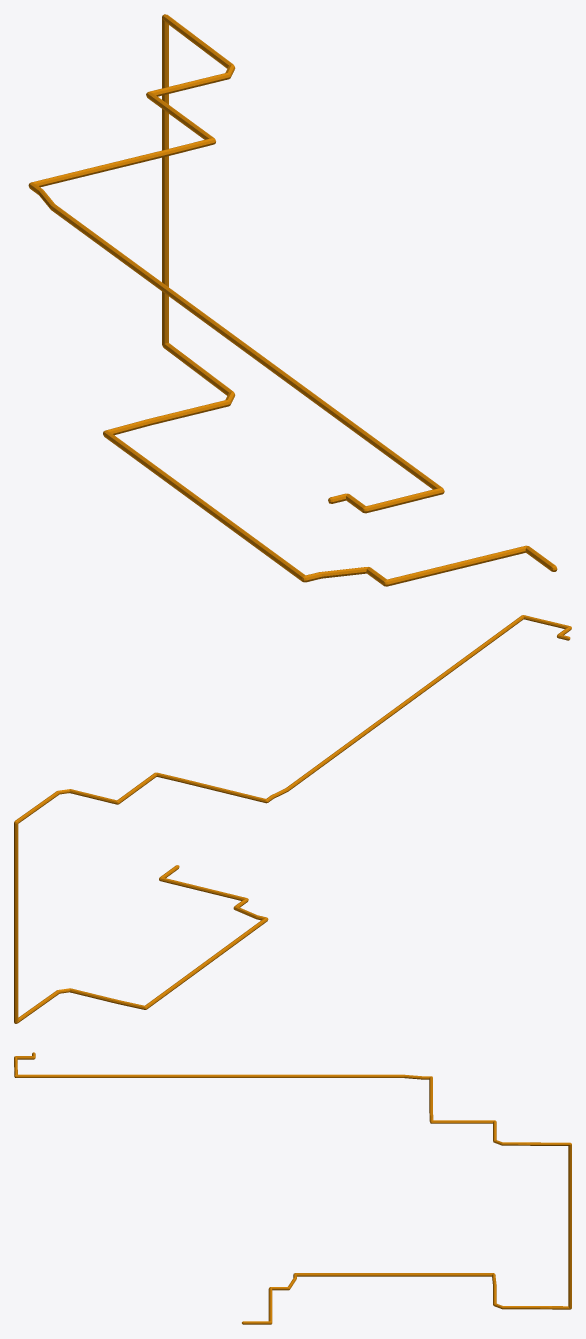
3 renders of one model, top to bottom at view 1: azimuth 30°, elevation 25°; view 2: azimuth 150°, elevation 25°; view 3: azimuth 270°, elevation 25°, orthographic. The views are drawn at different scales.
Bounding box in the file's own units: 1402 × 1020 × 3092.
